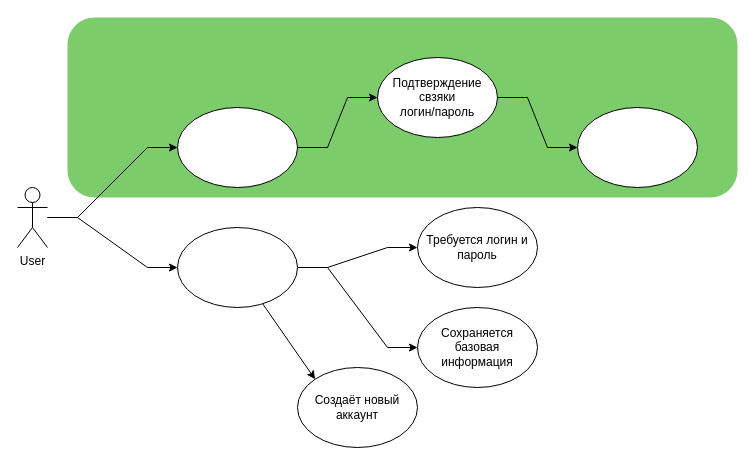
The diagram is 755 pixels wide and 465 high, and some of its shapes have lost their labels. The shapes that lost their labels are listed below. From the top down, each one's centre as x and y in pixels, then its label:
At (x=237, y=147): "Авторизация".
At (x=637, y=147): "Доступ в систему".
At (x=237, y=267): "Регистрация".
